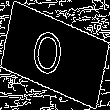O_S: (36, 24, 74, 86)
